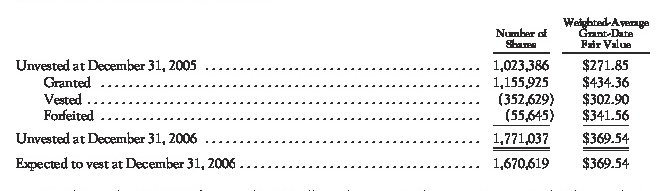table: (0, 0, 661, 191)
